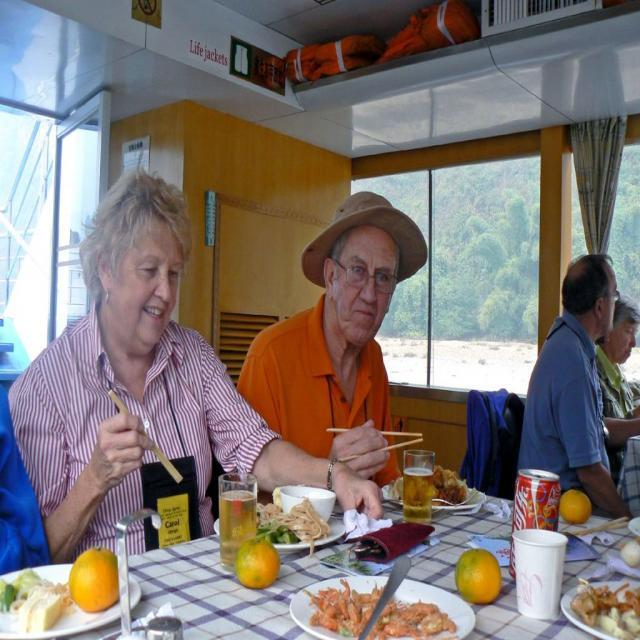Orange: (58, 560, 109, 622)
